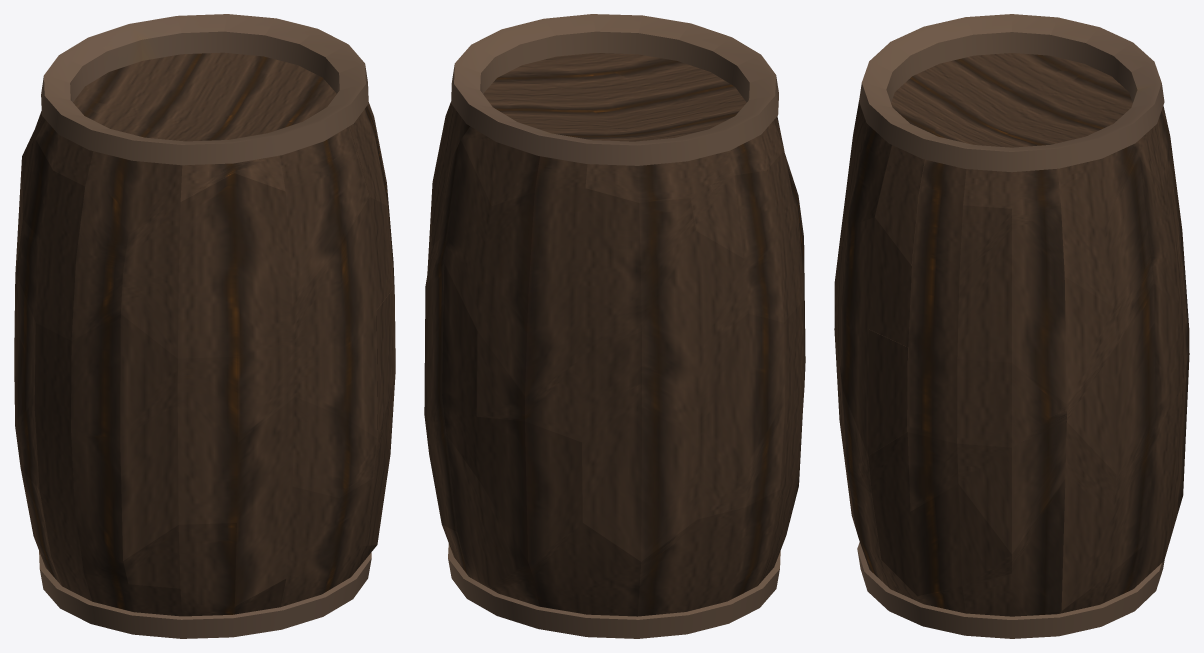
The model's file is SM_Exploding_Barrel.fbx.
3 renders of one model, left to right at view 1: azimuth 30°, elevation 25°; view 2: azimuth 150°, elevation 25°; view 3: azimuth 270°, elevation 25°, orthographic.
Visible parts, largest first — view 1: Bottom_Ring, polySurface82, Base, polySurface107, polySurface99, polySurface76, polySurface90, polySurface61, polySurface63, polySurface74, polySurface78, Top_Ring (+18 smaller); view 2: Bottom_Ring, polySurface57, Base, polySurface97, polySurface88, polySurface87, polySurface71, polySurface103, polySurface86, polySurface72, Top_Ring, polySurface70 (+14 smaller); view 3: Bottom_Ring, Base, polySurface65, polySurface66, polySurface83, polySurface80, polySurface55, polySurface109, polySurface94, Top_Ring, polySurface79, polySurface99 (+20 smaller).
Part boxes in pixels (box(x1,y1,x2,y2)): Bottom_Ring: box(41, 14, 368, 165); polySurface82: box(177, 356, 294, 606); Base: box(73, 52, 336, 141); polySurface107: box(178, 173, 292, 358); polySurface99: box(292, 197, 377, 438); polySurface76: box(71, 314, 181, 616); polySurface90: box(120, 314, 178, 560); polySurface61: box(71, 151, 182, 340); polySurface63: box(280, 127, 369, 303); polySurface74: box(34, 323, 92, 601); polySurface78: box(281, 478, 376, 606); Top_Ring: box(39, 551, 371, 638); Bottom_Ring: box(451, 14, 778, 165); polySurface57: box(525, 156, 641, 395); Base: box(483, 53, 746, 141); polySurface97: box(639, 198, 747, 438); polySurface88: box(641, 314, 748, 561); polySurface87: box(525, 331, 641, 561); polySurface71: box(525, 421, 641, 616); polySurface103: box(444, 140, 534, 395); polySurface86: box(442, 264, 527, 561); polySurface72: box(637, 507, 744, 616); Top_Ring: box(448, 543, 780, 638); polySurface70: box(446, 434, 539, 606); Bottom_Ring: box(859, 14, 1164, 172); Base: box(891, 53, 1132, 147); polySurface65: box(907, 159, 966, 443); polySurface66: box(963, 168, 1066, 404); polySurface83: box(868, 432, 962, 596); polySurface80: box(1107, 283, 1155, 575); polySurface55: box(1061, 145, 1149, 305); polySurface109: box(957, 205, 1011, 362); polySurface94: box(1012, 363, 1066, 553); Top_Ring: box(857, 542, 1164, 638); polySurface79: box(962, 479, 1065, 616); polySurface99: box(834, 217, 874, 454).
Size of the model in its own units: 56.24 by 78.19 by 51.59.
